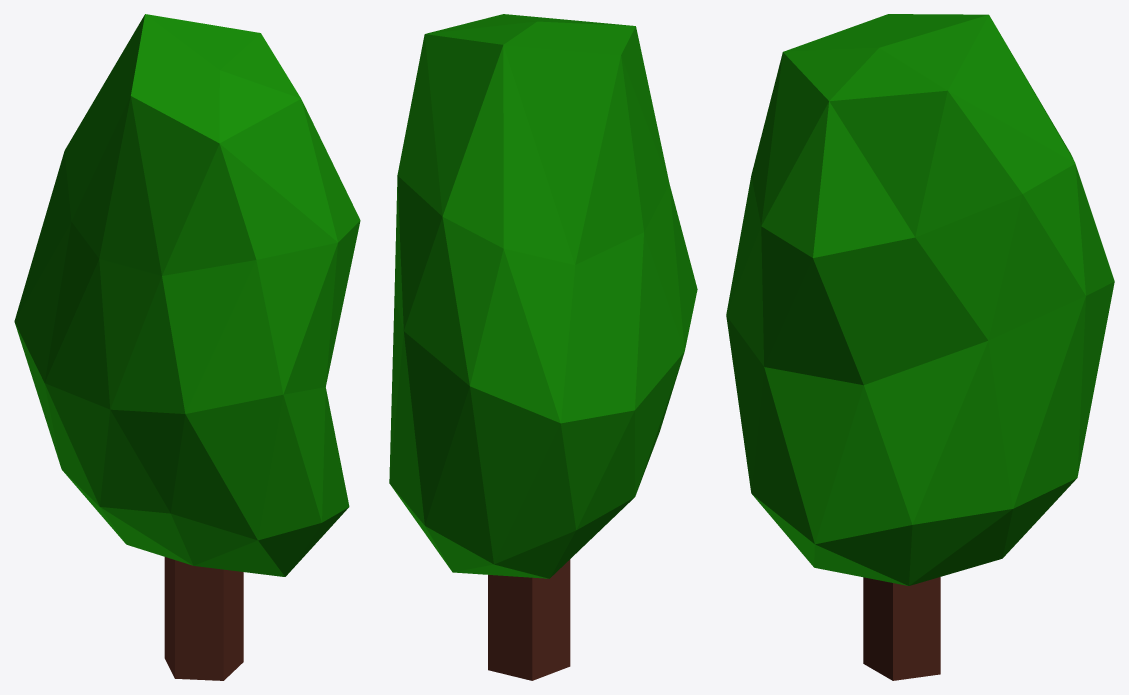
The model's file is tree2.fbx.
3 views of the same model, side by side, from view 1: azimuth 30°, elevation 25°; view 2: azimuth 150°, elevation 25°; view 3: azimuth 270°, elevation 25° (orthographic). The views are drawn at different scales.
Visible parts, largest first — view 1: Cylinder.033; view 2: Cylinder.033; view 3: Cylinder.033.
Part boxes in pixels (x1=…): Cylinder.033: x1=14, y1=14, x2=360, y2=680; Cylinder.033: x1=389, y1=14, x2=697, y2=680; Cylinder.033: x1=726, y1=14, x2=1114, y2=680.
Bounding box in the file's own units: 8.2 × 19.22 × 10.57.
